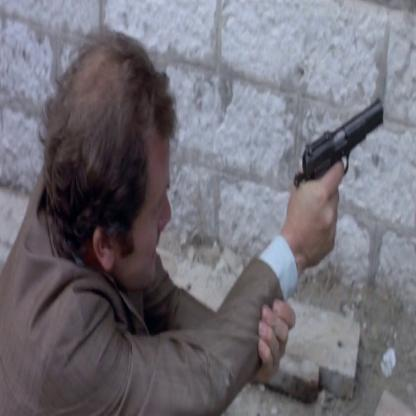gun: (290, 89, 397, 218)
